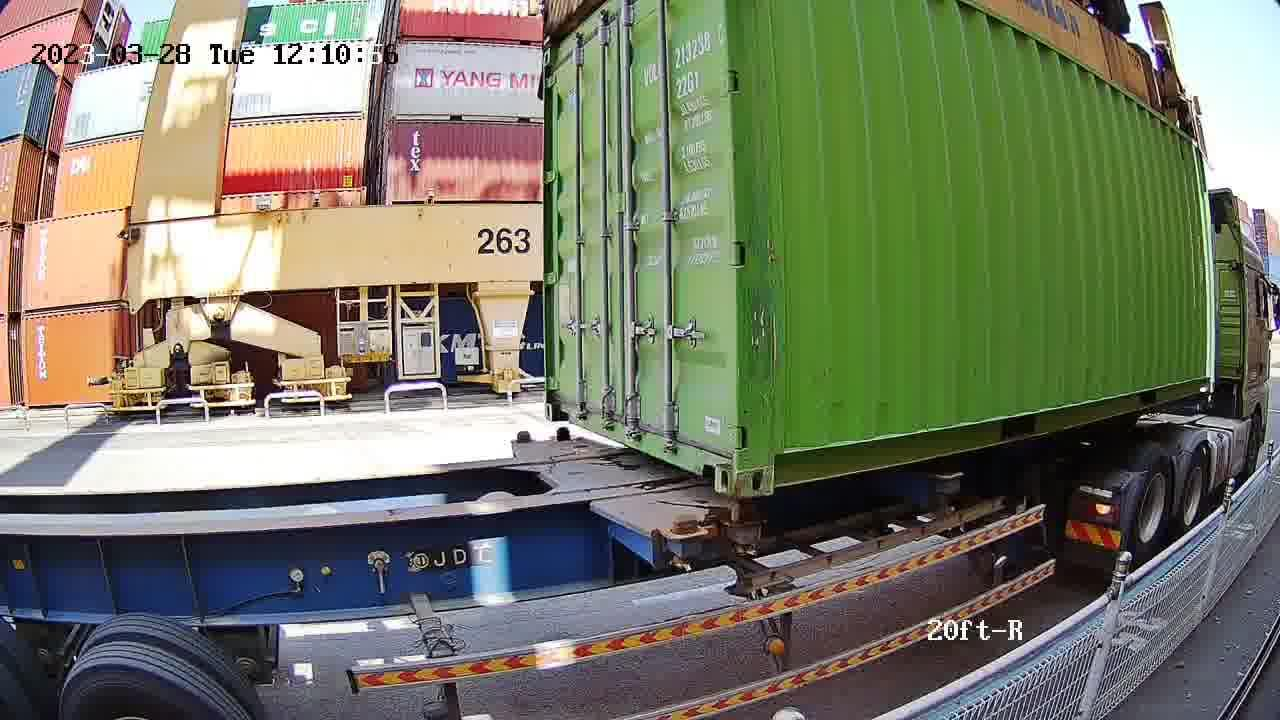Chassis: (512, 441, 705, 571)
Cone: (667, 516, 711, 573), (726, 505, 762, 558), (554, 426, 569, 443), (514, 431, 532, 445)
Hole_L: (736, 436, 804, 495), (544, 378, 575, 426)
Hole_R: (686, 423, 736, 498)
Tire: (1127, 450, 1175, 561), (1179, 442, 1213, 544)
